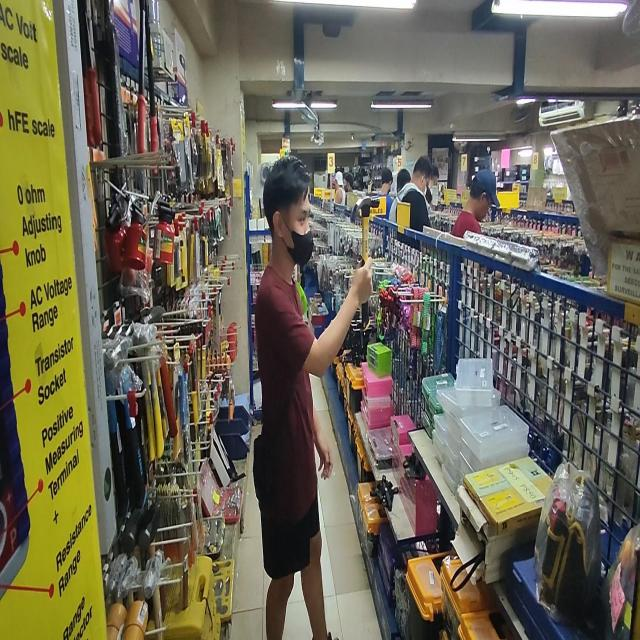hammer: (352, 196, 380, 331)
